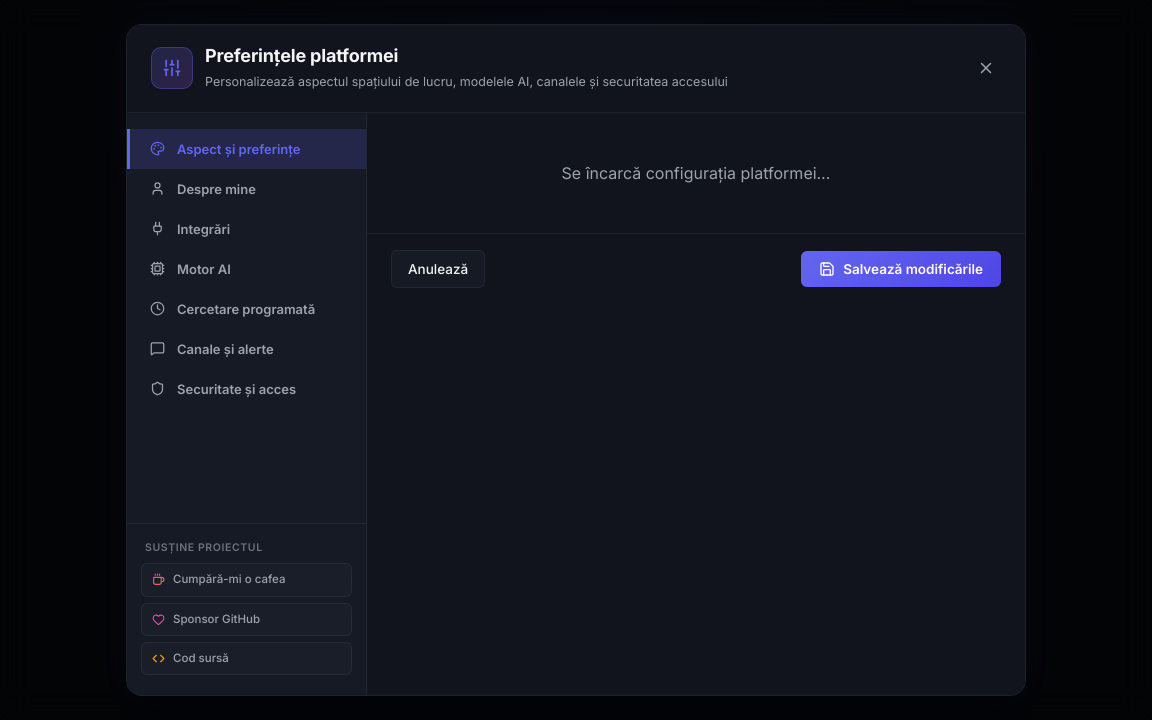
SettingsModal Romanian locale › renders translated profile tab labels in Romanian
Click the tab "Despre mine" at [246, 188], box [127,168,366,208]
(page scrolled)
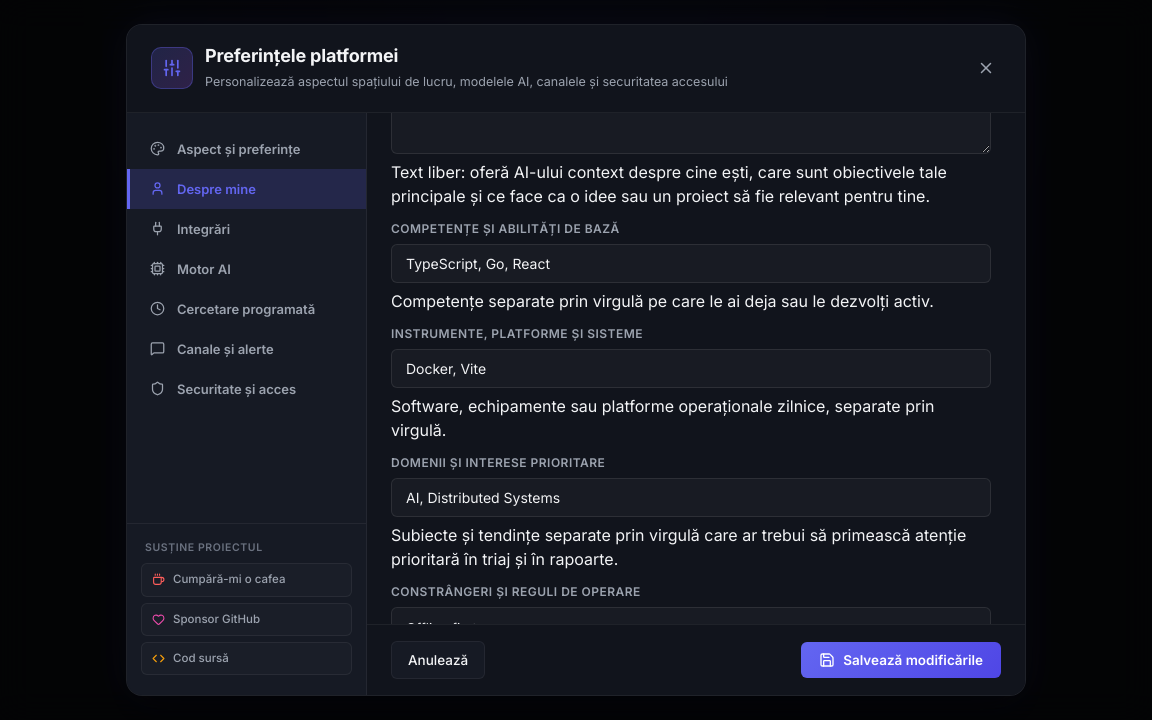
Result: the field labelled "Instrumente, platforme și sisteme" is shown at [391,349,991,388]
